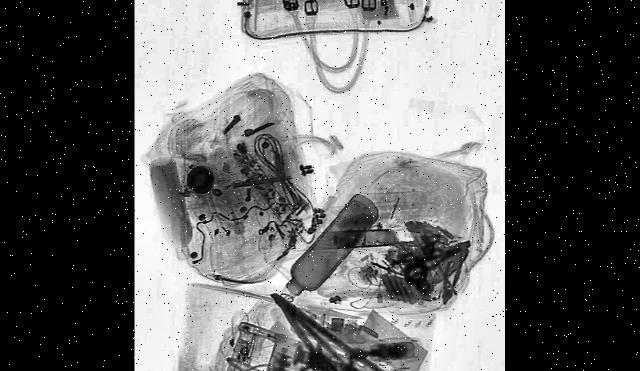Pliers: (438, 246, 462, 306)
